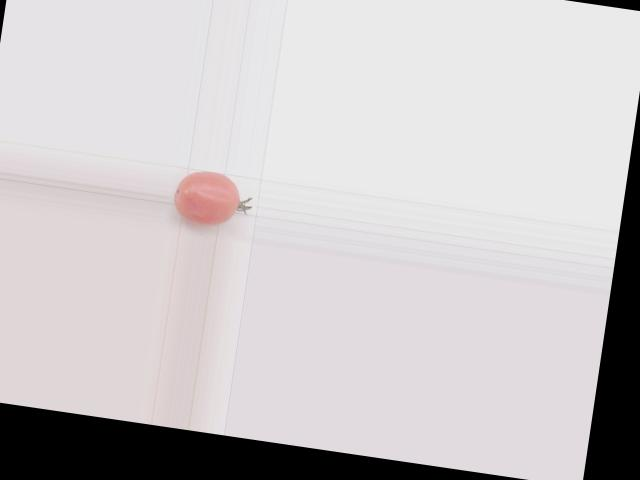tomato: (171, 166, 242, 229)
